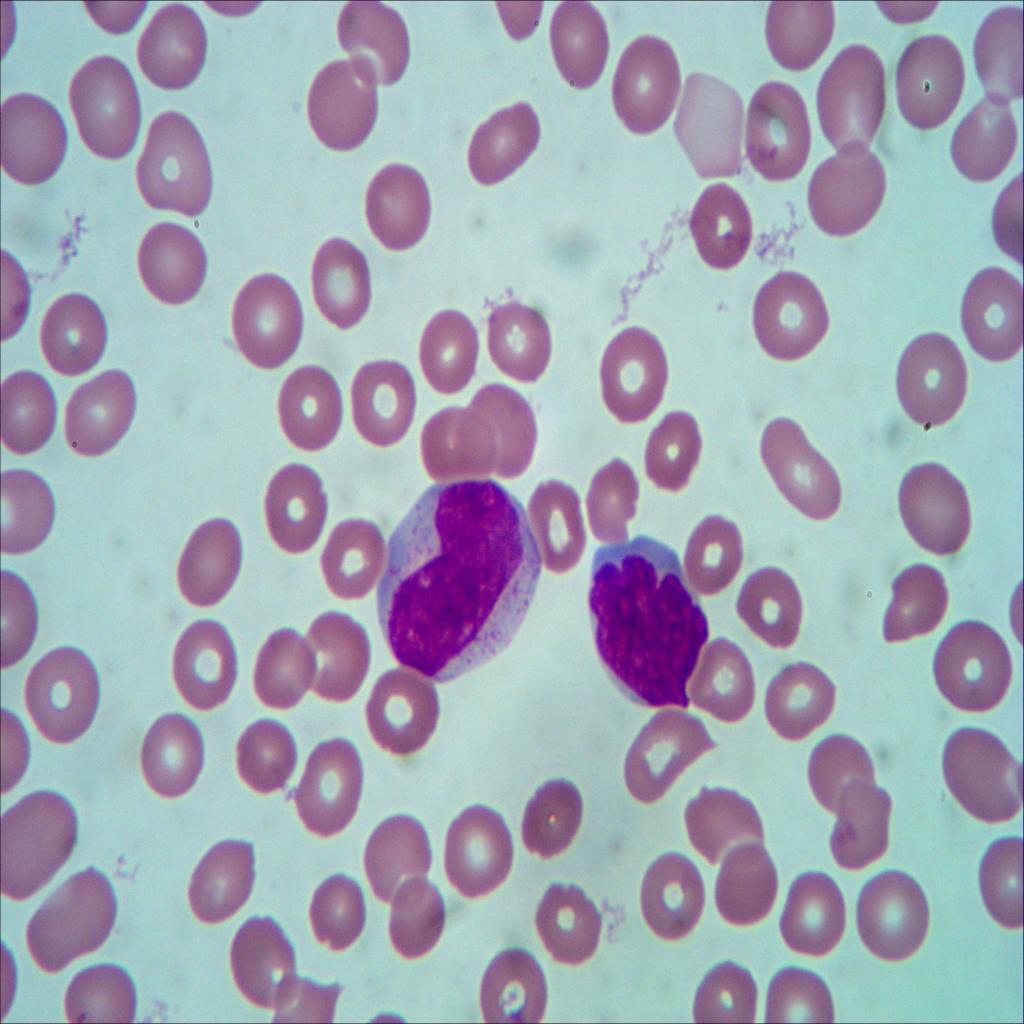Eritrosit: (754, 408, 852, 524), (130, 105, 224, 225), (934, 710, 1024, 832), (18, 866, 118, 970), (883, 324, 969, 440), (295, 234, 381, 346), (812, 43, 890, 163), (289, 728, 372, 840), (0, 788, 83, 899), (352, 150, 437, 258), (69, 49, 146, 168), (524, 866, 610, 972), (755, 264, 839, 372), (926, 612, 1012, 717), (215, 906, 297, 1016), (58, 364, 147, 464), (806, 143, 894, 244), (133, 214, 218, 317), (305, 48, 385, 156), (625, 847, 711, 947), (340, 0, 424, 102), (684, 770, 769, 870), (135, 6, 216, 108), (20, 644, 100, 747), (874, 555, 954, 658), (608, 30, 682, 141), (0, 90, 78, 195), (667, 75, 745, 179), (354, 801, 435, 901), (598, 319, 678, 420), (901, 454, 975, 563), (622, 710, 718, 793), (754, 654, 837, 748), (228, 268, 299, 377), (524, 468, 588, 588), (473, 937, 561, 1024), (168, 514, 244, 614), (409, 401, 499, 485), (368, 656, 442, 758), (775, 864, 849, 966), (227, 710, 309, 802), (253, 457, 329, 555), (740, 80, 810, 186), (470, 379, 542, 482), (167, 616, 241, 716), (312, 511, 391, 604), (893, 29, 962, 135), (350, 350, 420, 454), (300, 610, 373, 709), (520, 770, 593, 868), (632, 400, 705, 498), (958, 256, 1024, 364), (464, 100, 544, 189), (276, 362, 350, 458), (253, 614, 320, 720), (442, 802, 511, 904), (714, 834, 784, 931), (580, 449, 643, 555), (540, 0, 608, 98), (860, 868, 928, 966), (831, 776, 896, 876), (309, 868, 378, 962), (806, 723, 881, 809), (482, 294, 546, 394), (416, 298, 480, 397), (188, 836, 260, 923), (684, 639, 754, 728), (684, 183, 754, 271), (141, 712, 208, 803), (755, 951, 837, 1024), (736, 564, 808, 647), (60, 954, 145, 1024), (40, 288, 112, 370), (969, 2, 1024, 108), (949, 103, 1018, 187), (0, 360, 59, 458), (385, 868, 444, 966), (686, 942, 756, 1024), (970, 822, 1024, 928), (679, 509, 745, 595), (766, 0, 840, 76), (0, 466, 61, 556), (275, 966, 336, 1024)
Limfoblast: (590, 534, 713, 712)
Monosit: (378, 480, 542, 690)
